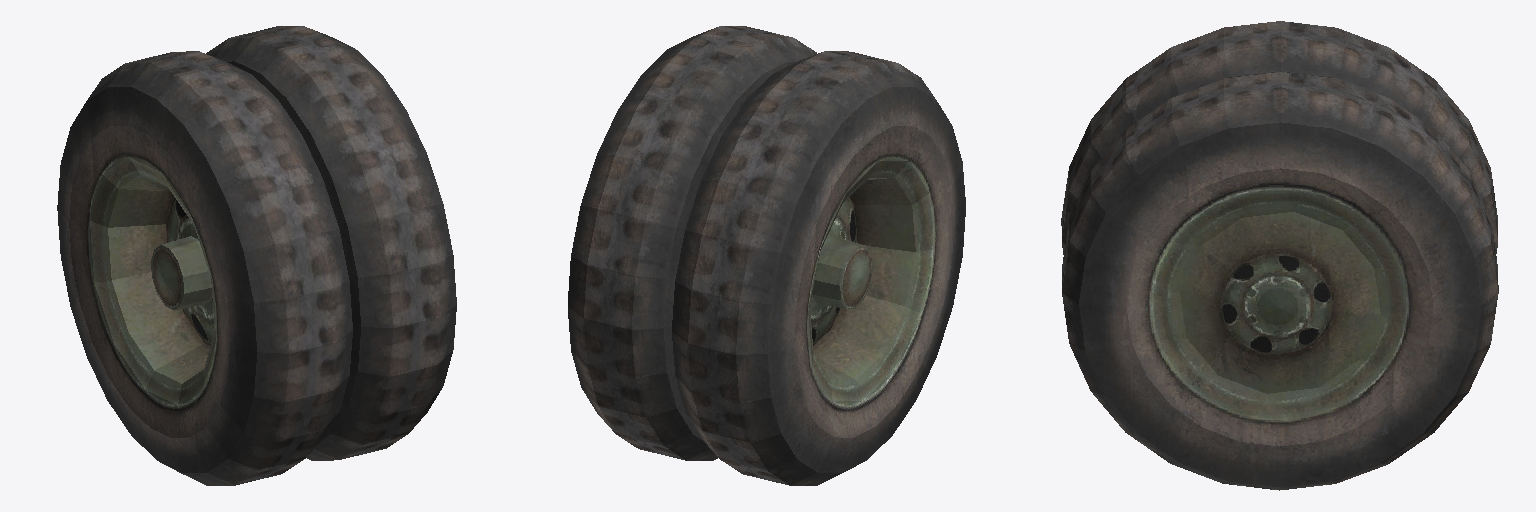
The picture shows the model from 3 angles: view 1: azimuth 30°, elevation 25°; view 2: azimuth 150°, elevation 25°; view 3: azimuth 270°, elevation 25°; orthographic projection.
Parts seen in each view (by area): view 1: armytruck.005; view 2: armytruck.005; view 3: armytruck.005.
Boxes of the visible parts, <box> form: armytruck.005: <box>57,26,456,485</box>; armytruck.005: <box>568,26,965,485</box>; armytruck.005: <box>1061,21,1498,490</box>.
Bounding box in the file's own units: 0.529 × 0.9378 × 0.9388.
Materials: 1 (1 with a texture image).